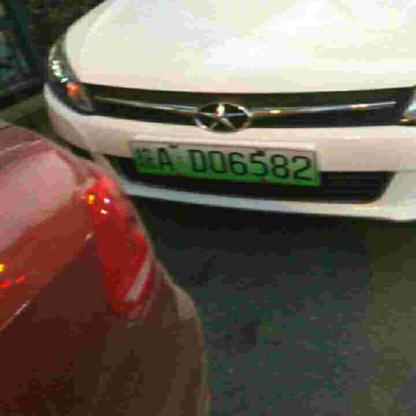lp: (128, 142, 317, 184)
